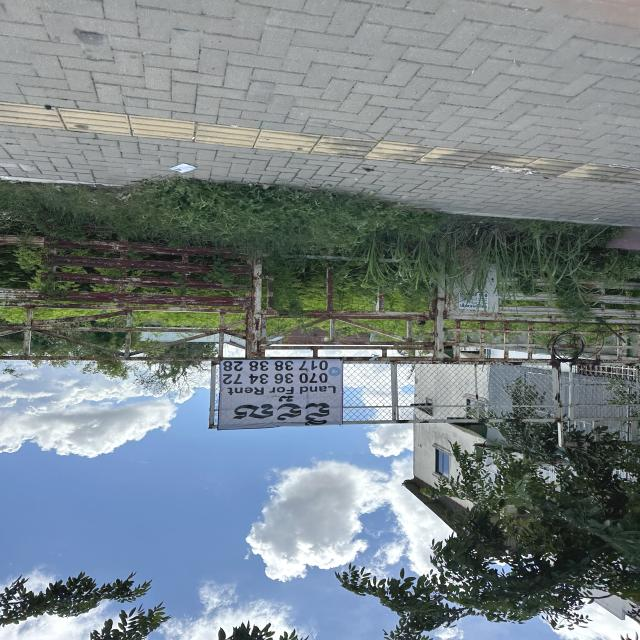Yolov11_80vkh: (225, 396, 340, 430)
